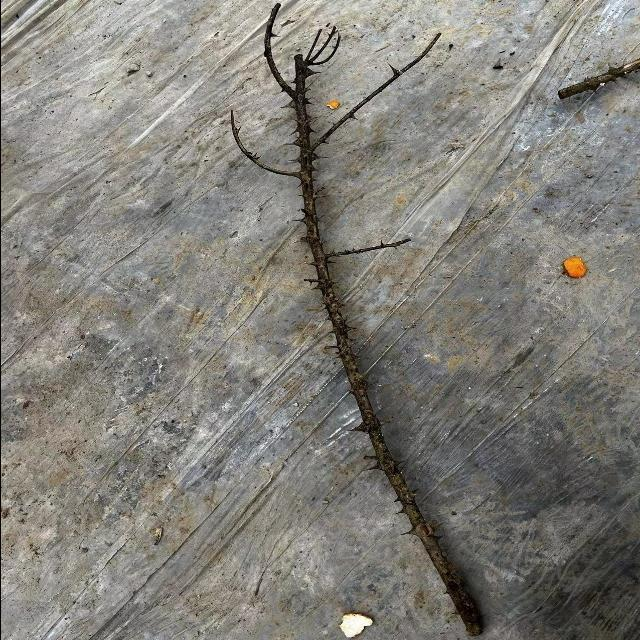branch: (285, 24, 483, 639)
